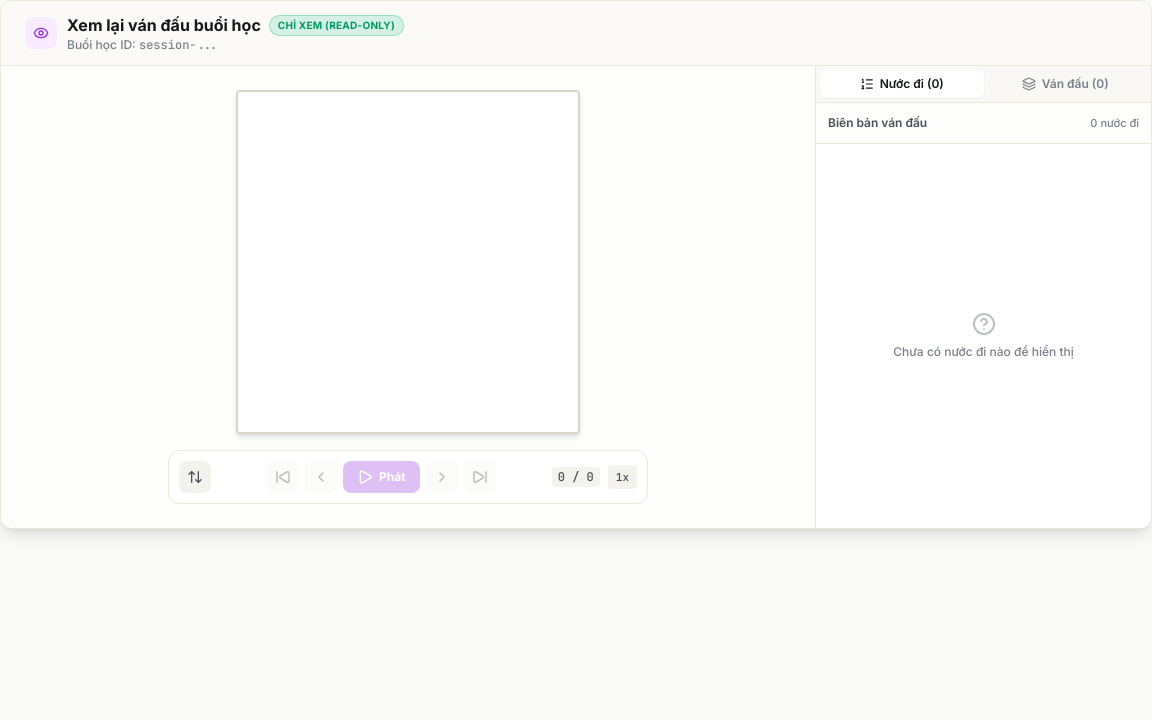
Scenario: TASK 9.3 — Session Chess Game Replay UI › 1. Session game list (loading, empty, success, error) › shows empty state when no games exist for the session
Click the button with test id "replay-tab-games" at (1065, 84), box [984,70,1147,98]
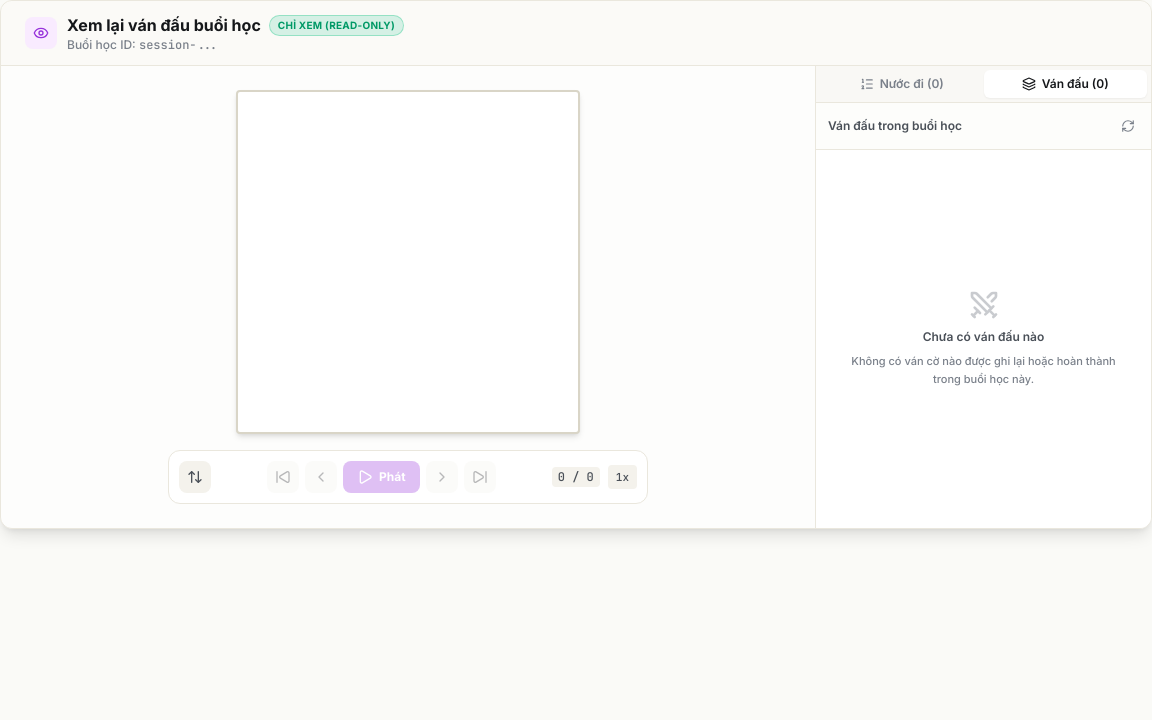
Expected: the element with test id "replay-games-empty" is shown, [851,289,1116,386]
Expected: the text "Chưa có ván đấu nào" is shown, [923,329,1044,345]
